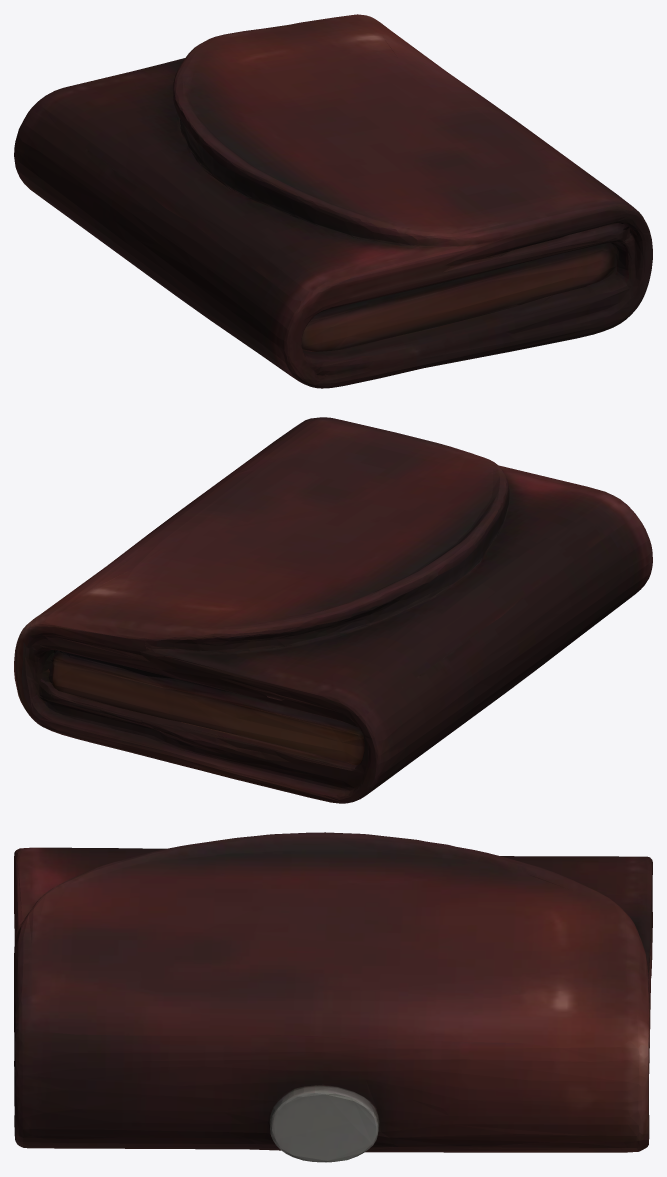
3 views of the same model, one above another, from view 1: azimuth 30°, elevation 25°; view 2: azimuth 150°, elevation 25°; view 3: azimuth 270°, elevation 25° (orthographic). The views are drawn at different scales.
Parts seen in each view (by area): view 1: geometry_0; view 2: geometry_0; view 3: geometry_0.
Boxes of the visible parts, left/top/right/bottom form: geometry_0: left=14, top=14, right=652, bottom=388; geometry_0: left=14, top=417, right=652, bottom=803; geometry_0: left=14, top=832, right=652, bottom=1162.
Bounding box in the file's own units: 0.7983 × 0.2956 × 0.9963.
Materials: 1 (1 with a texture image).
